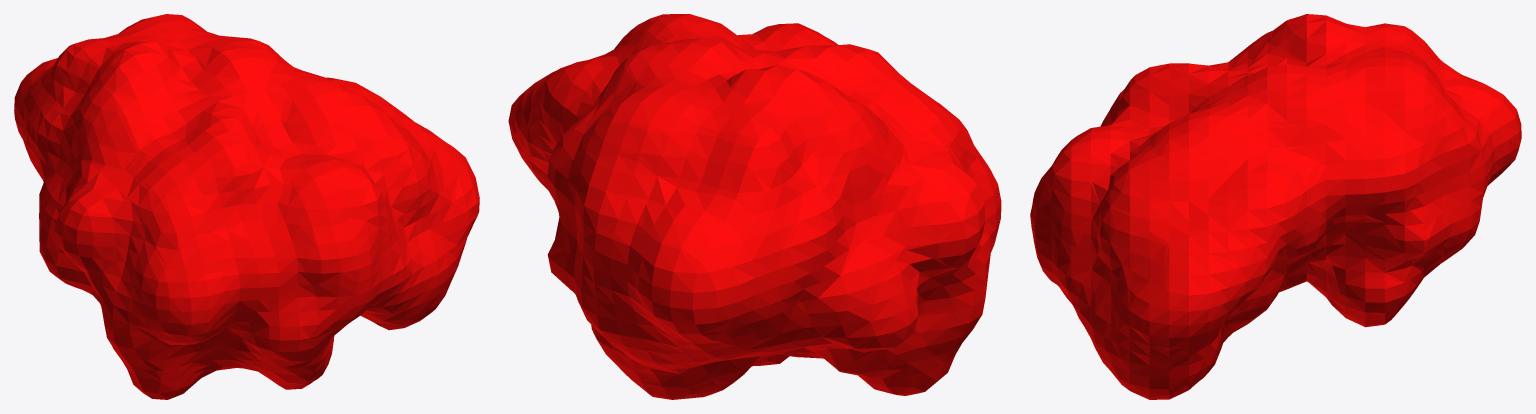
File: avtA_coarse.dae
The picture shows the model from 3 angles, left to right: view 1: azimuth 30°, elevation 25°; view 2: azimuth 150°, elevation 25°; view 3: azimuth 270°, elevation 25°; orthographic projection. The views are drawn at different scales.
Visible parts, largest first — view 1: avtA; view 2: avtA; view 3: avtA.
Part boxes in pixels (bbox=[...]): avtA: bbox=[14, 14, 479, 399]; avtA: bbox=[508, 14, 1001, 399]; avtA: bbox=[1030, 14, 1521, 399].
Size of the model in its own units: 66.15 by 50.06 by 67.97.
